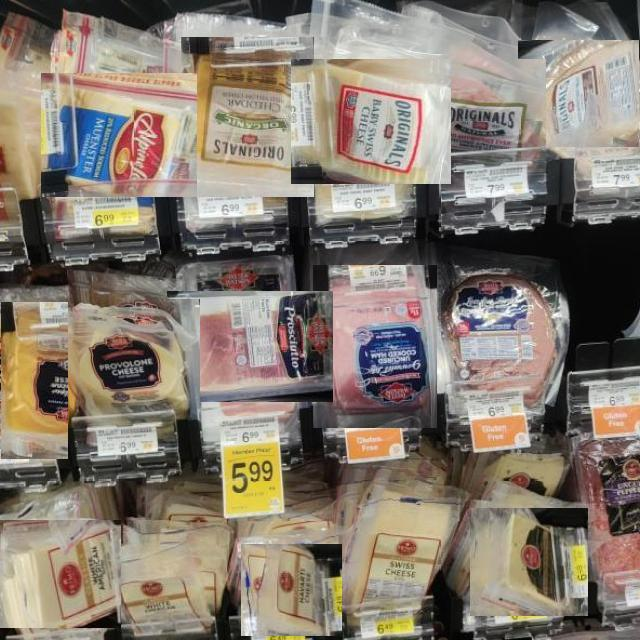Cheese: (181, 37, 314, 197), (290, 60, 451, 184), (41, 74, 197, 197), (67, 300, 200, 429), (107, 503, 225, 639), (362, 478, 456, 620), (0, 519, 121, 628), (470, 508, 588, 616), (0, 301, 68, 459), (242, 543, 342, 636)
Meat: (444, 256, 572, 429), (312, 265, 437, 428), (167, 291, 333, 402), (439, 60, 546, 185), (518, 40, 640, 147), (574, 407, 640, 588)
